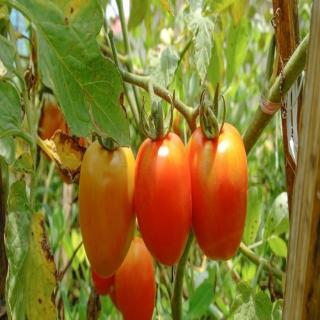Tomat: (186, 82, 250, 263), (135, 87, 194, 268), (79, 137, 137, 280)
